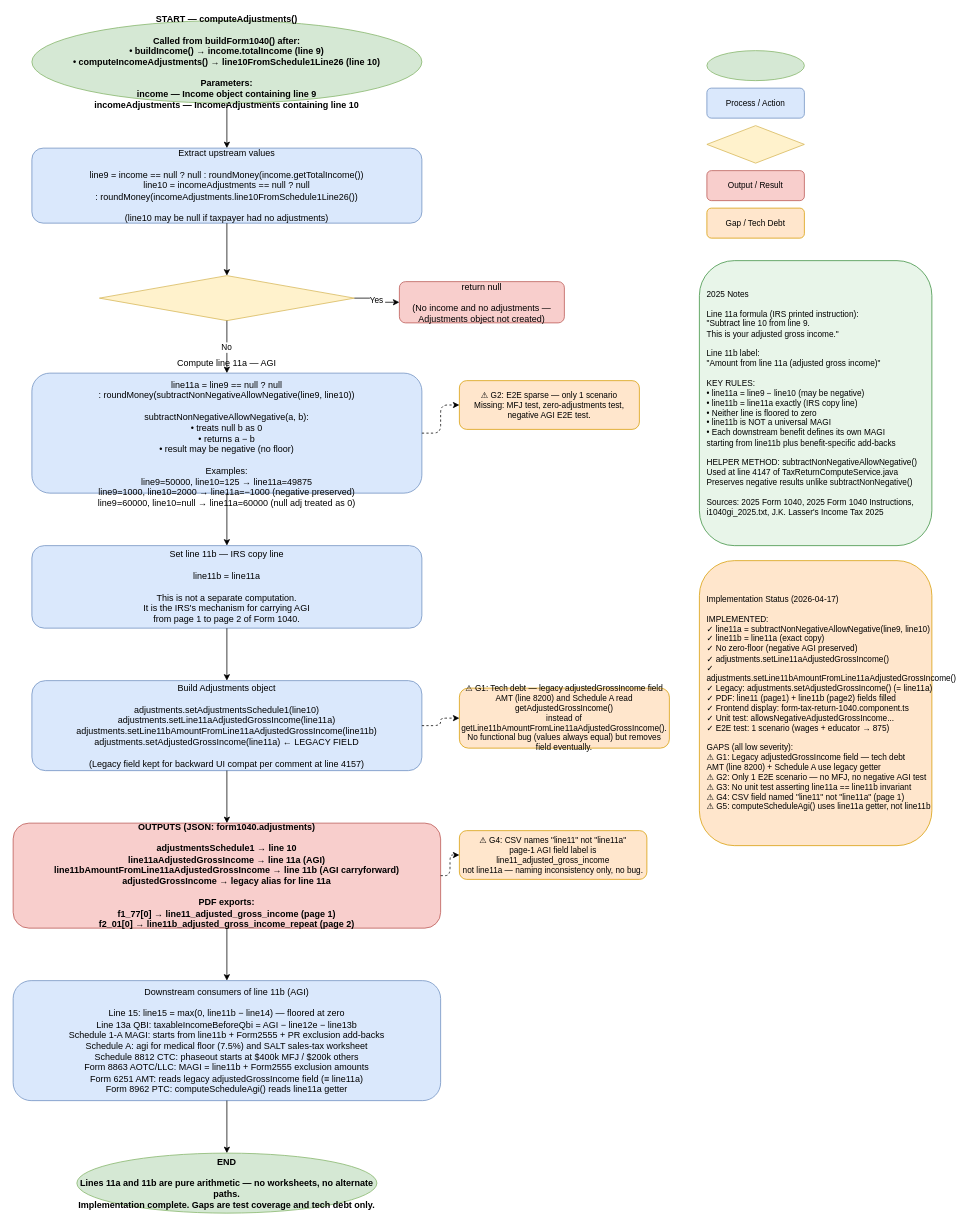
This 970x1226 diagram has some shape labels left out. The centre of each missing label's shape, as x and y in pixels:
"Decision" goes at point (755, 144).
"line10 == null AND line9 == null?" goes at point (226, 298).
"Start / End" goes at point (755, 65).
